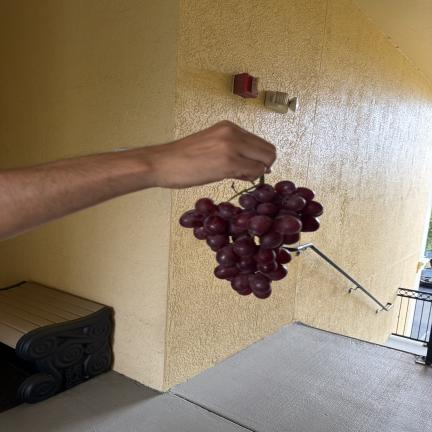grape_cluster: (179, 175, 323, 299)
